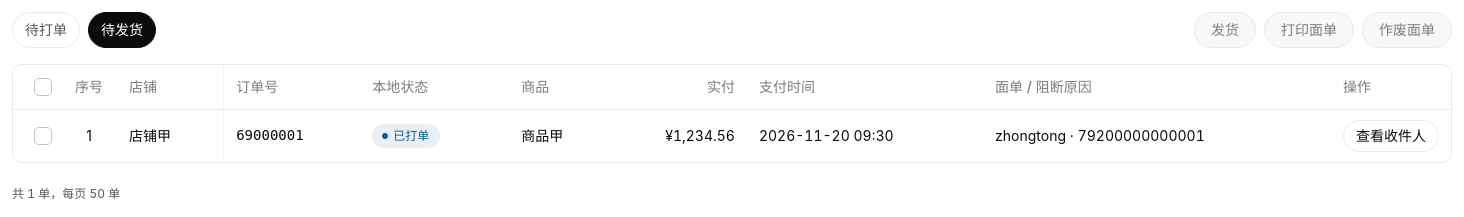
Test case: 打单发货 › 待发货阶段：勾选后按面单提交打印任务
Later steps or results of the test are not shown.
Click the checkbox named "选择订单 69000001" at [43, 136], box [25,118,61,154]
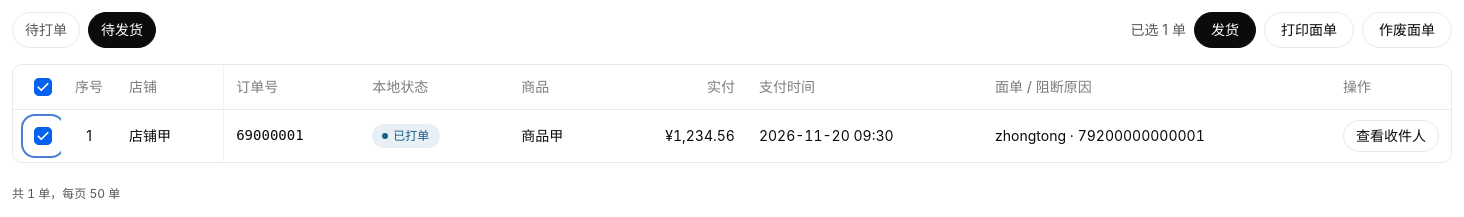
expect the button "打印面单" is enabled: met, box [1264,12,1354,48]
